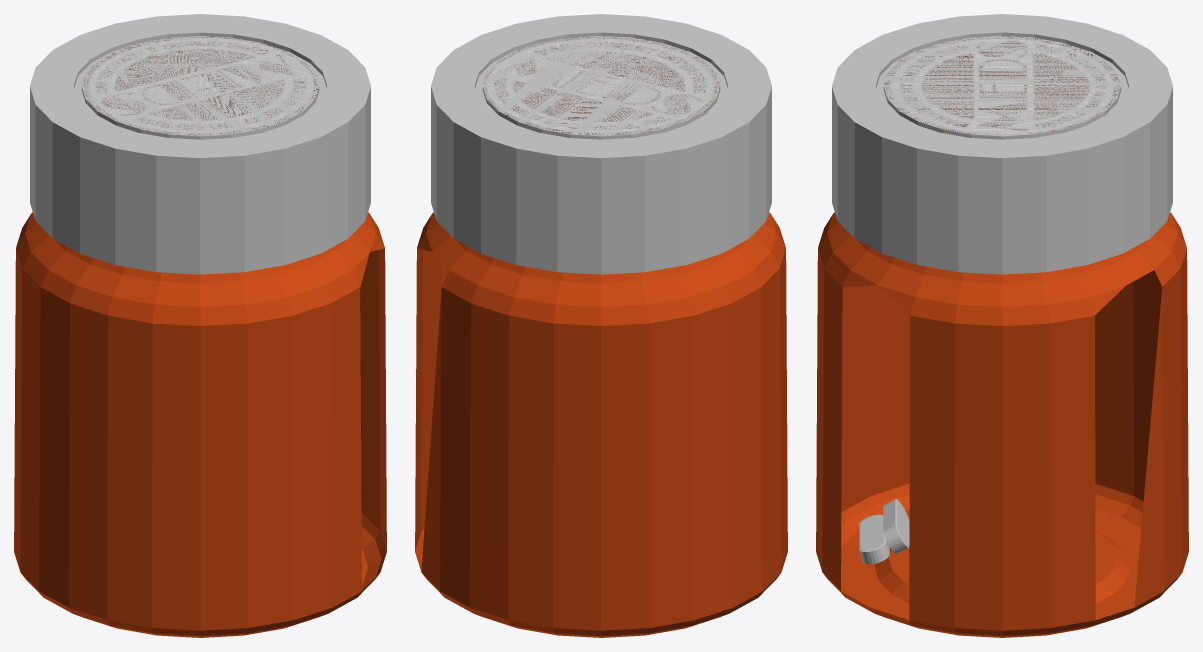
3 renders of one model, left to right at view 1: azimuth 30°, elevation 25°; view 2: azimuth 150°, elevation 25°; view 3: azimuth 270°, elevation 25°, orthographic.
Visible parts, largest first — view 1: mesh9_mesh9-geometry, mesh1_mesh1-geometry; view 2: mesh9_mesh9-geometry, mesh1_mesh1-geometry; view 3: mesh9_mesh9-geometry, mesh1_mesh1-geometry, mesh28_mesh28-geometry, mesh34_mesh34-geometry.
Boxes of the visible parts, x1,y1,x2,y2 form: mesh9_mesh9-geometry: (14, 212, 386, 637); mesh1_mesh1-geometry: (30, 14, 370, 274); mesh9_mesh9-geometry: (415, 212, 787, 637); mesh1_mesh1-geometry: (431, 14, 771, 274); mesh9_mesh9-geometry: (816, 212, 1188, 637); mesh1_mesh1-geometry: (832, 14, 1172, 274); mesh28_mesh28-geometry: (859, 514, 889, 564); mesh34_mesh34-geometry: (883, 499, 909, 553).
Size of the model in its own units: 0.4984 by 0.7094 by 0.4984.
3 materials, 1 textured.
